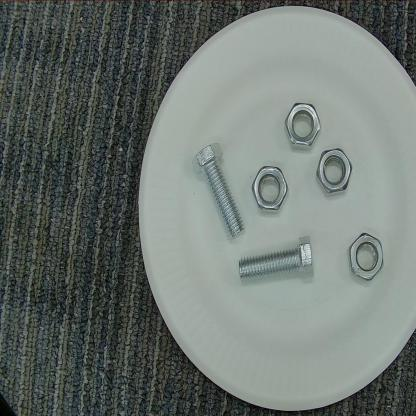FOD: (185, 139, 247, 245), (237, 231, 319, 288), (344, 226, 388, 287), (249, 159, 290, 218), (314, 145, 354, 200), (282, 98, 321, 153)
